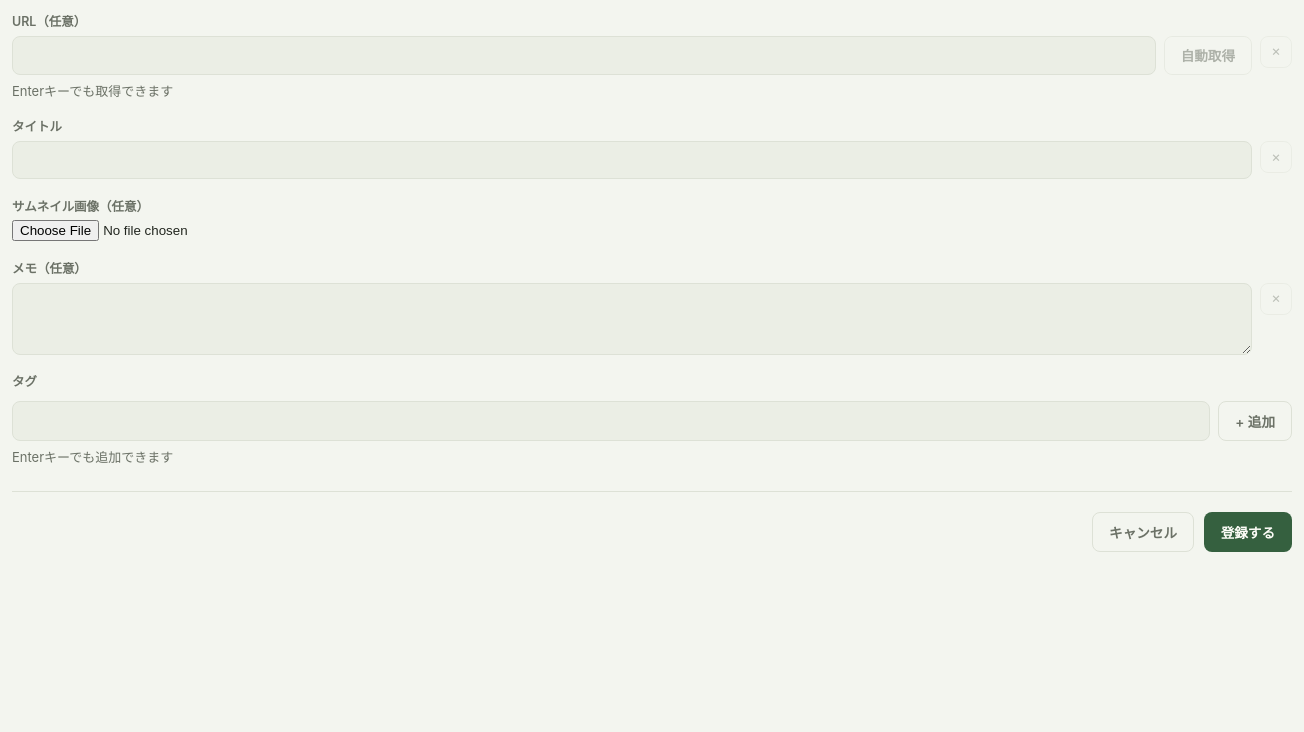
RecipeRegisterForm › メモ削除ボタンでメモだけ空にできる
Check: the button named "メモを削除" is disabled, box top-left (1260, 282), bottom-right (1292, 314)
Type "肉じゃが" into the field labelled "タイトル".
click(632, 160); type("肉じゃが")  # box top-left (12, 141), bottom-right (1252, 179)
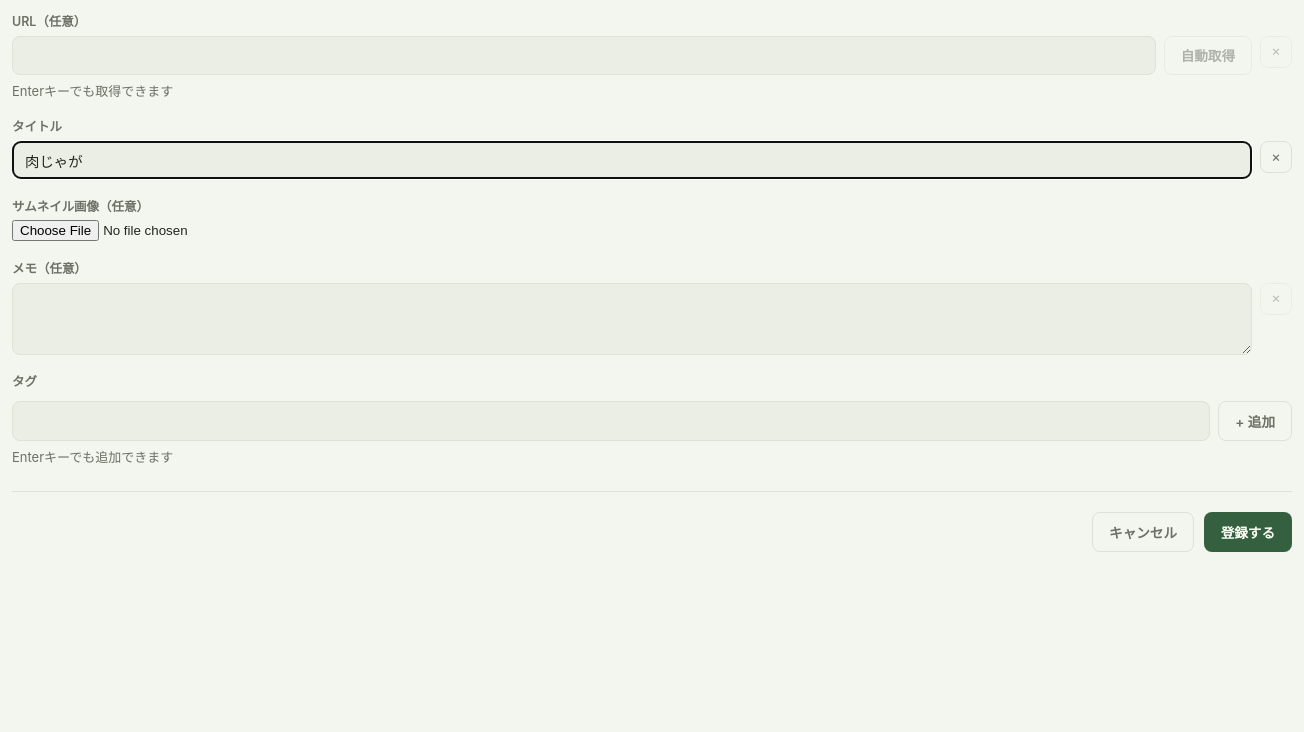
Type "美味しい" into the text box labelled "メモ（任意）".
click(632, 318); type("美味しい")  # box top-left (12, 282), bottom-right (1252, 354)
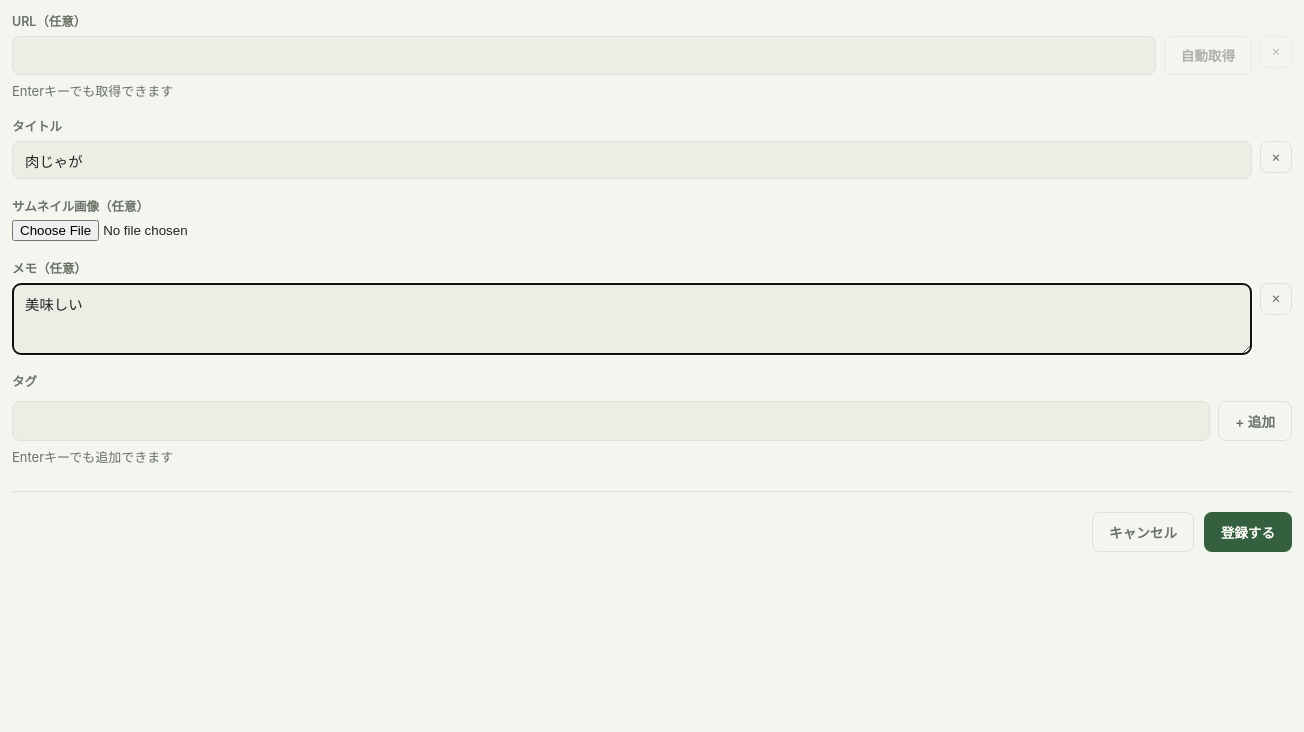
Click the button named "メモを削除".
click(1276, 298)  # box top-left (1260, 282), bottom-right (1292, 314)
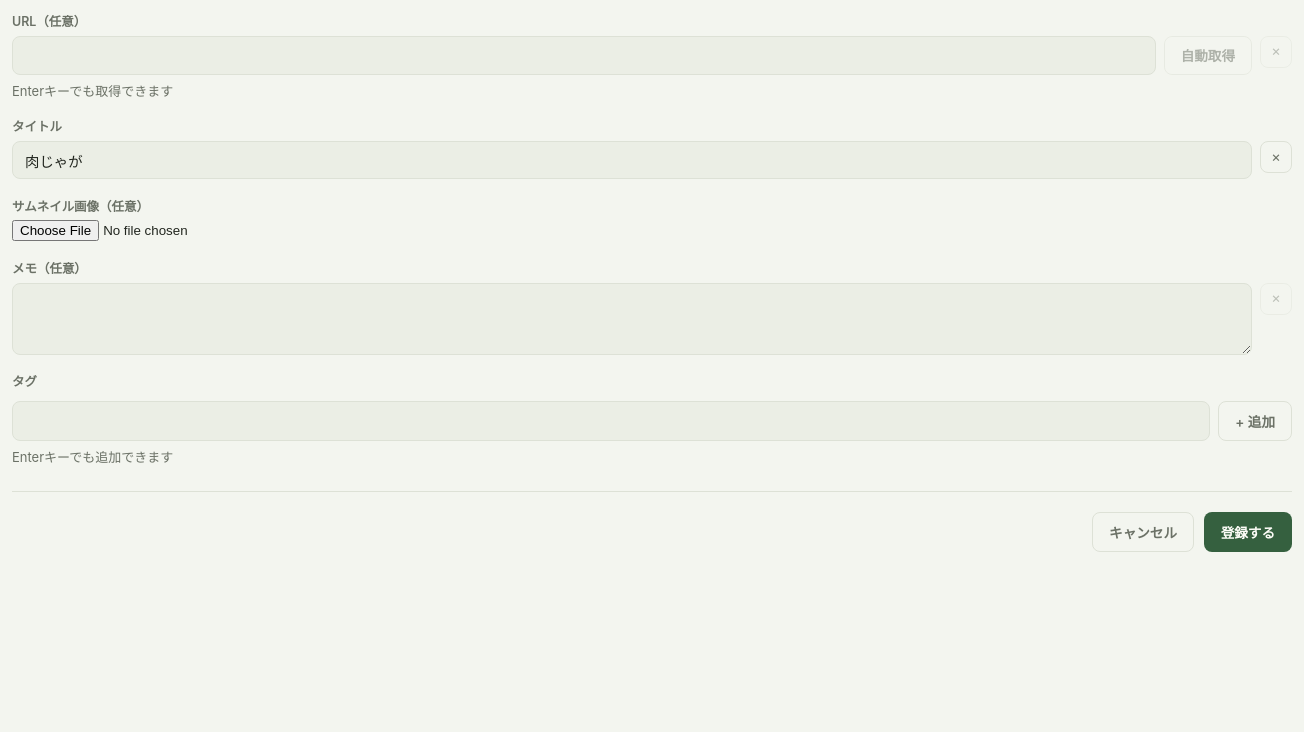
Check: the text box labelled "メモ（任意）" is empty, box top-left (12, 282), bottom-right (1252, 354)
